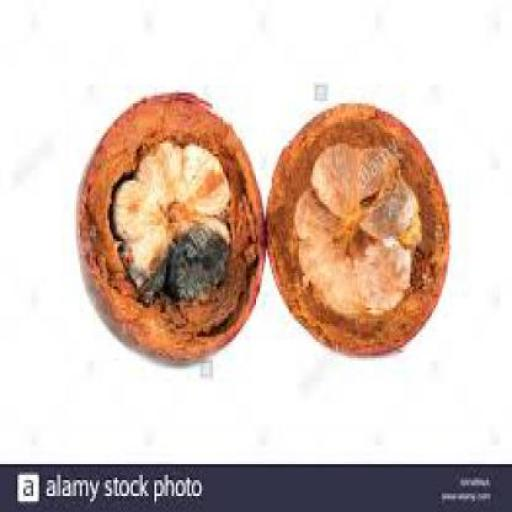biodegradable: (74, 90, 264, 360), (262, 96, 448, 352), (170, 210, 225, 295), (117, 228, 170, 298), (182, 136, 227, 216), (138, 138, 182, 209), (112, 173, 164, 233)
